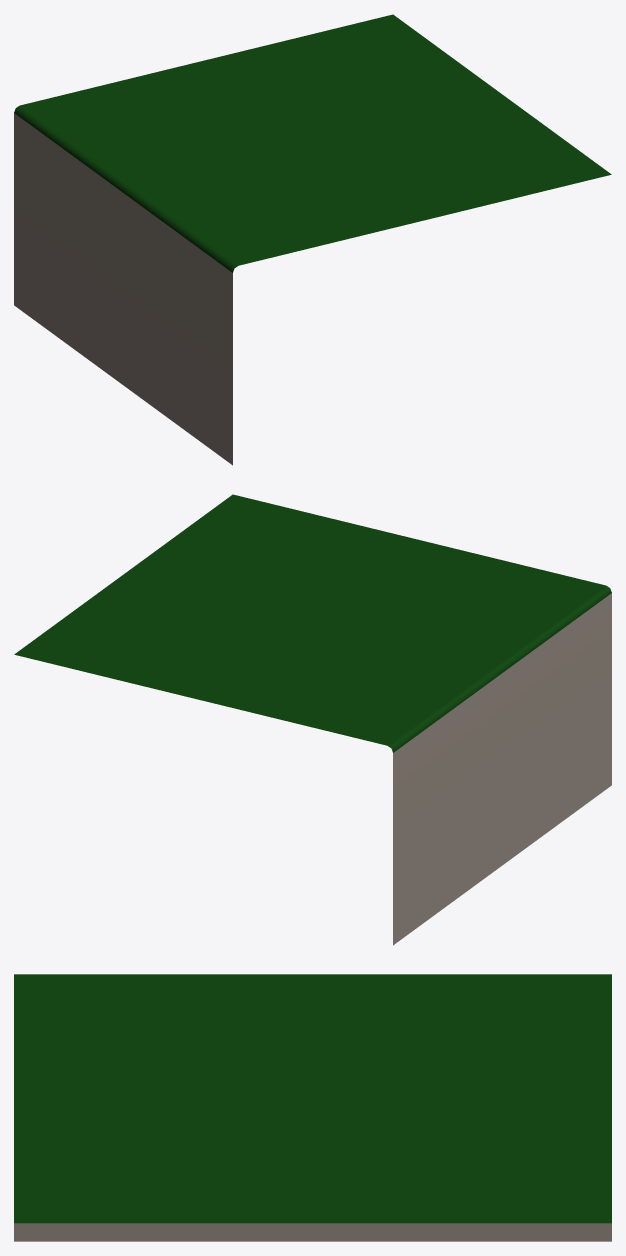
File: Cliff_01.fbx
The picture shows the model from 3 angles, top to bottom: view 1: azimuth 30°, elevation 25°; view 2: azimuth 150°, elevation 25°; view 3: azimuth 270°, elevation 25°; orthographic projection. The views are drawn at different scales.
Parts seen in each view (by area): view 1: Cliff_01; view 2: Cliff_01; view 3: Cliff_01.
Boxes of the visible parts, left/top/right/bottom form: Cliff_01: left=14, top=14, right=611, bottom=465; Cliff_01: left=14, top=494, right=611, bottom=945; Cliff_01: left=14, top=974, right=611, bottom=1241.
Size of the model in its own units: 200 by 100 by 200.
